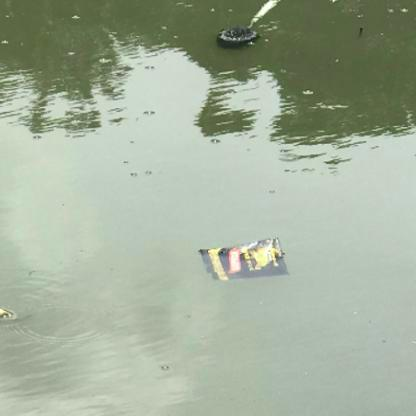Trash: (199, 233, 287, 281), (244, 0, 284, 30)
